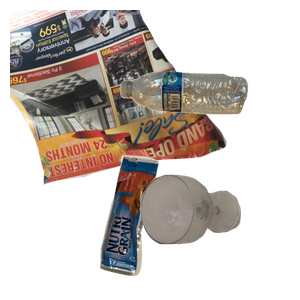glass: (138, 172, 300, 300)
paper: (10, 10, 230, 188)
plastic: (118, 69, 300, 176)
trash: (97, 152, 248, 300)
